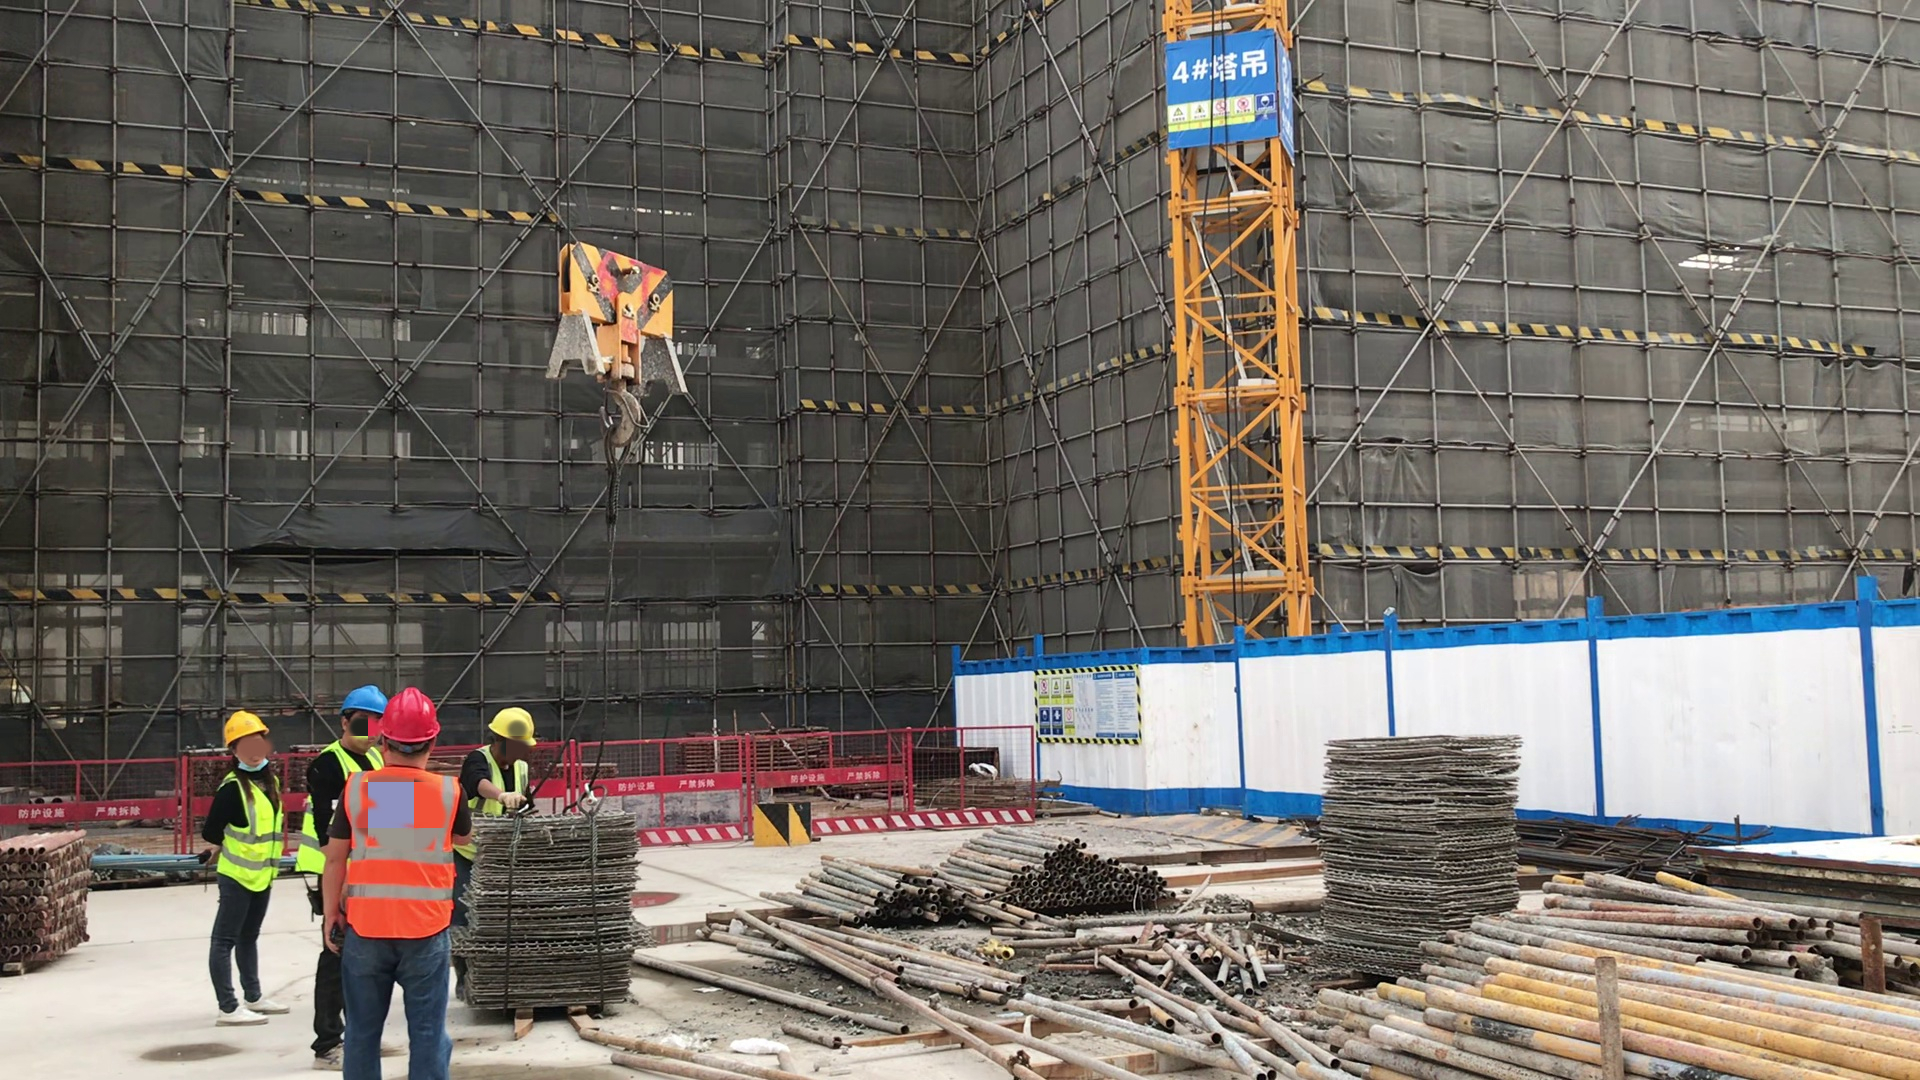fence: (834, 724, 1036, 828), (11, 756, 185, 828), (639, 735, 748, 848)
helmet: (382, 688, 441, 743), (484, 709, 536, 746), (219, 711, 268, 745), (339, 687, 383, 718)
hook: (544, 238, 689, 446)
person: (321, 688, 474, 1080), (195, 709, 294, 1029), (466, 707, 535, 817), (302, 684, 381, 771)
scaffold: (1287, 864, 1920, 1080), (965, 822, 1184, 922), (760, 853, 969, 924), (6, 832, 85, 976)
slogan: (1170, 41, 1276, 142), (1036, 669, 1140, 738)
vest: (349, 769, 459, 941), (213, 770, 286, 894), (470, 748, 532, 816)
